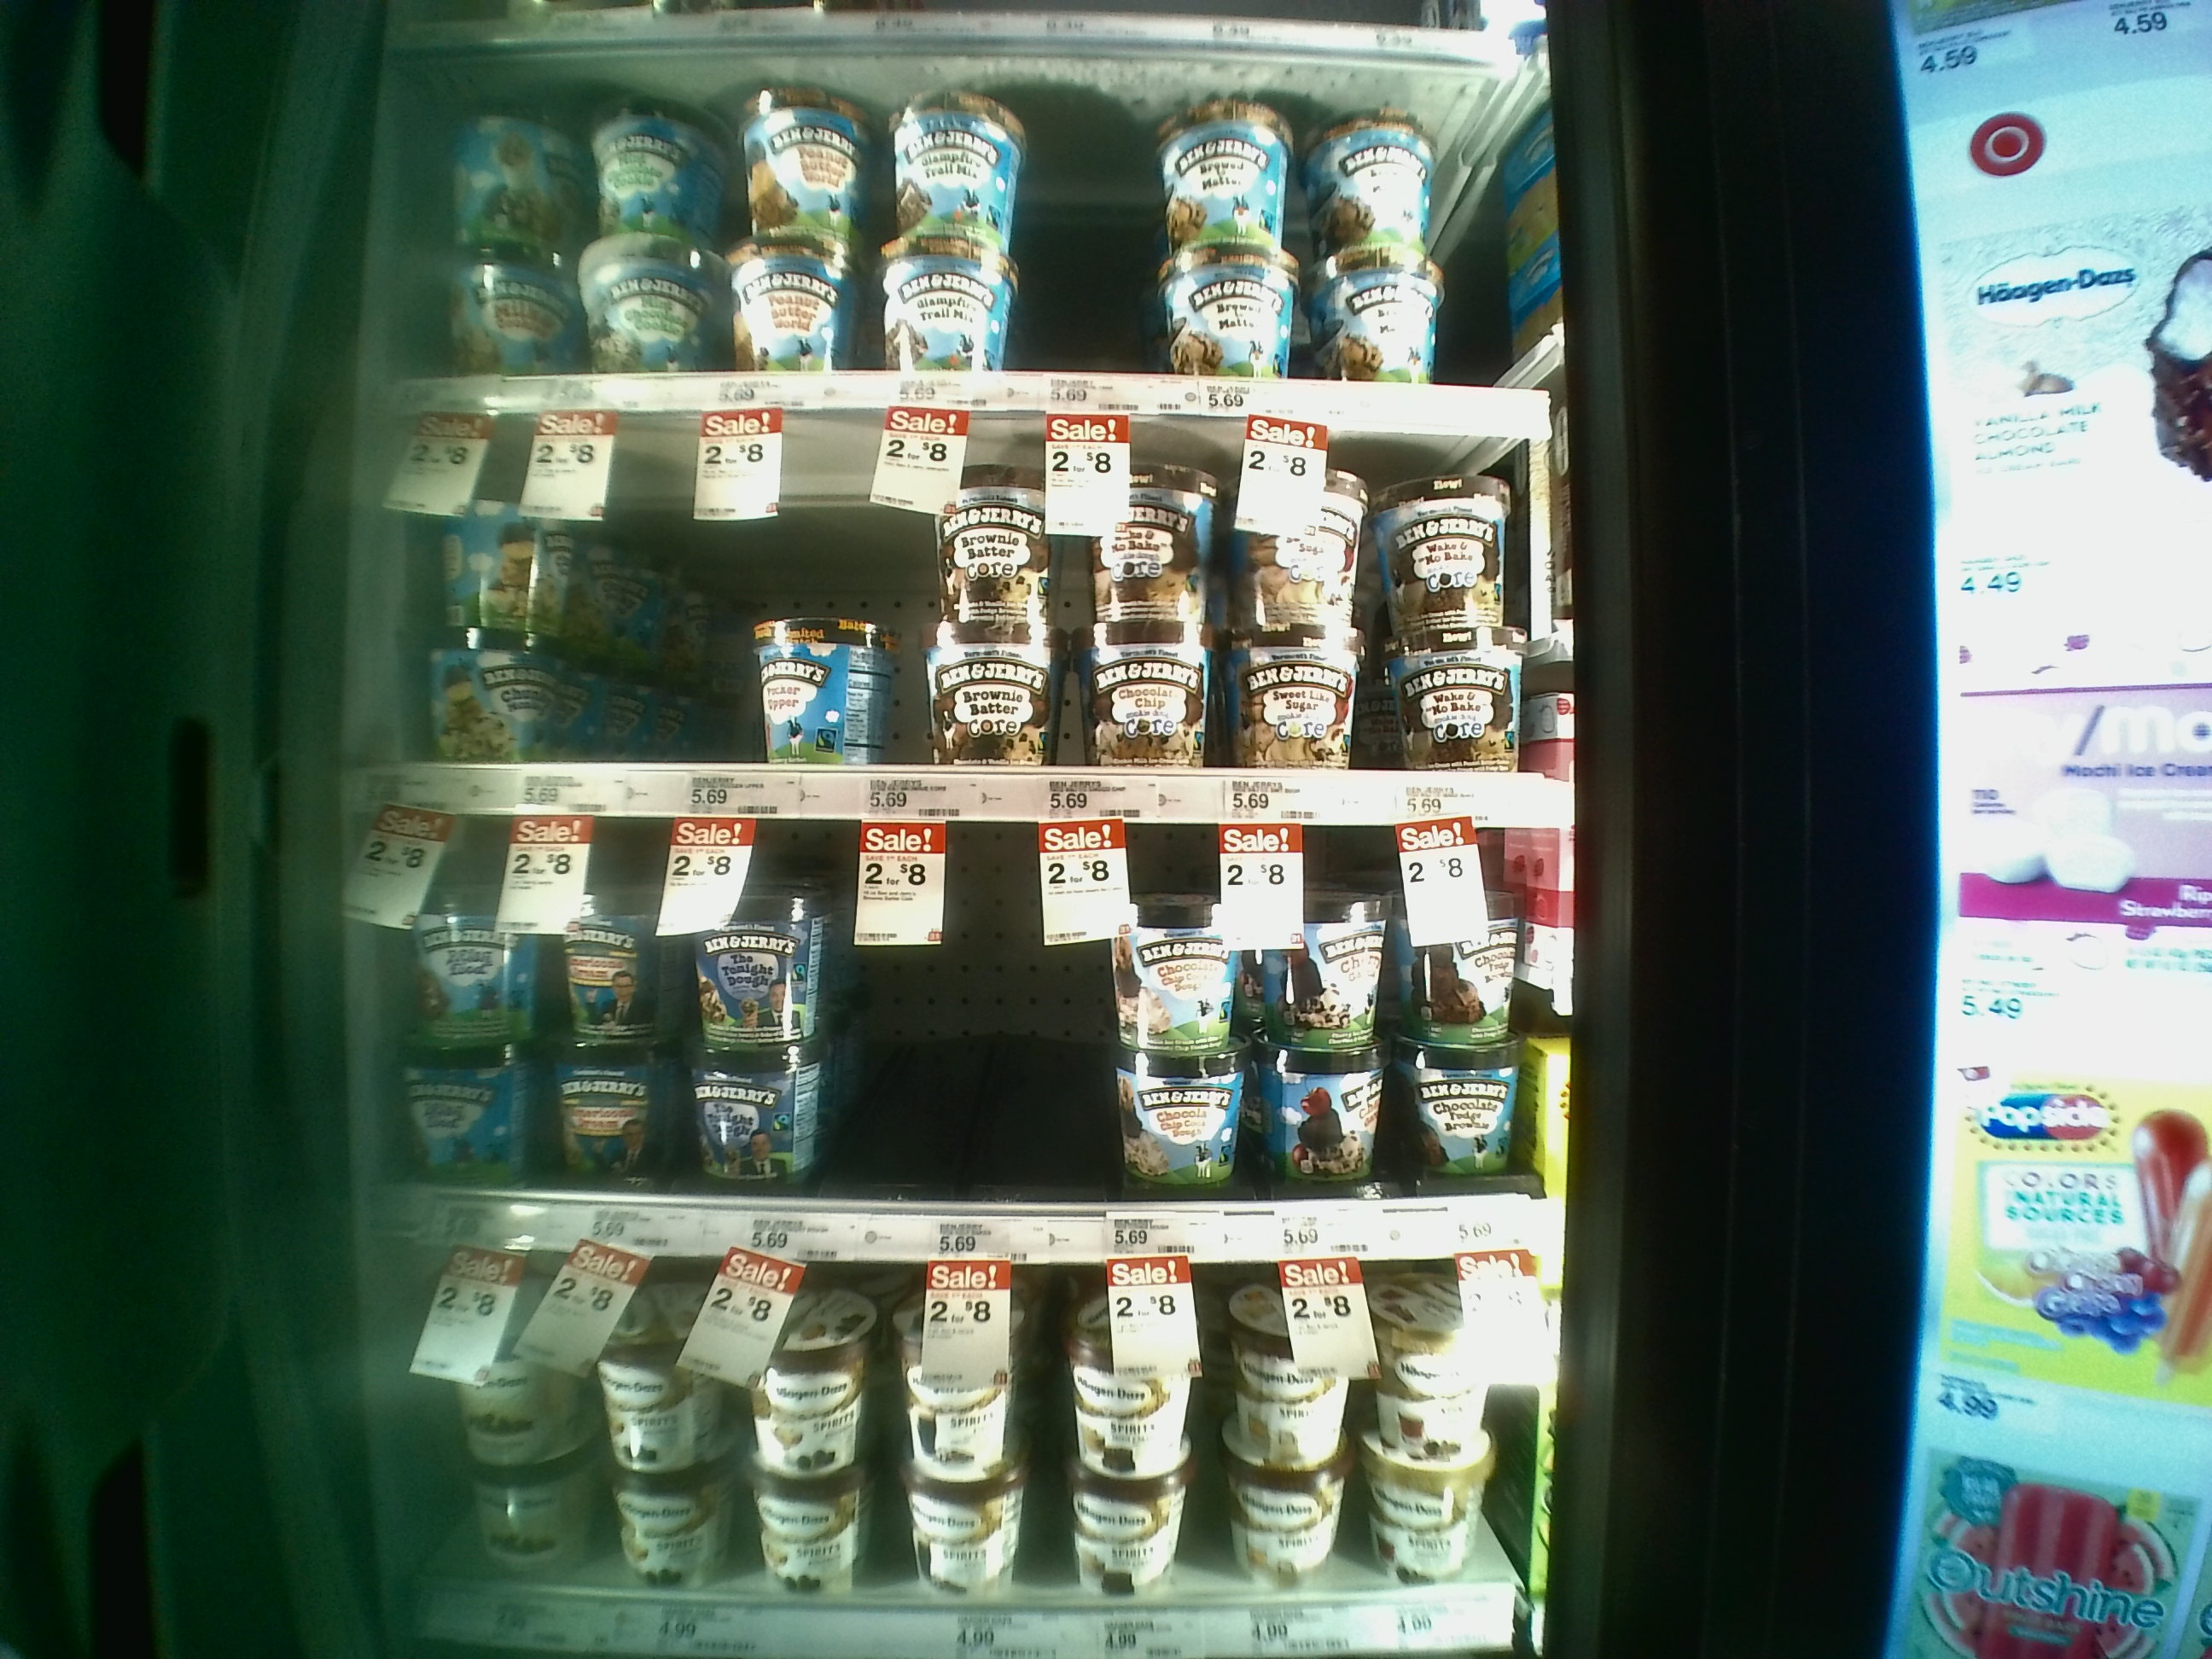ice-cream-shelf: (366, 819, 1564, 1256), (364, 413, 1581, 814), (371, 1253, 1559, 1647), (369, 61, 1564, 422)
